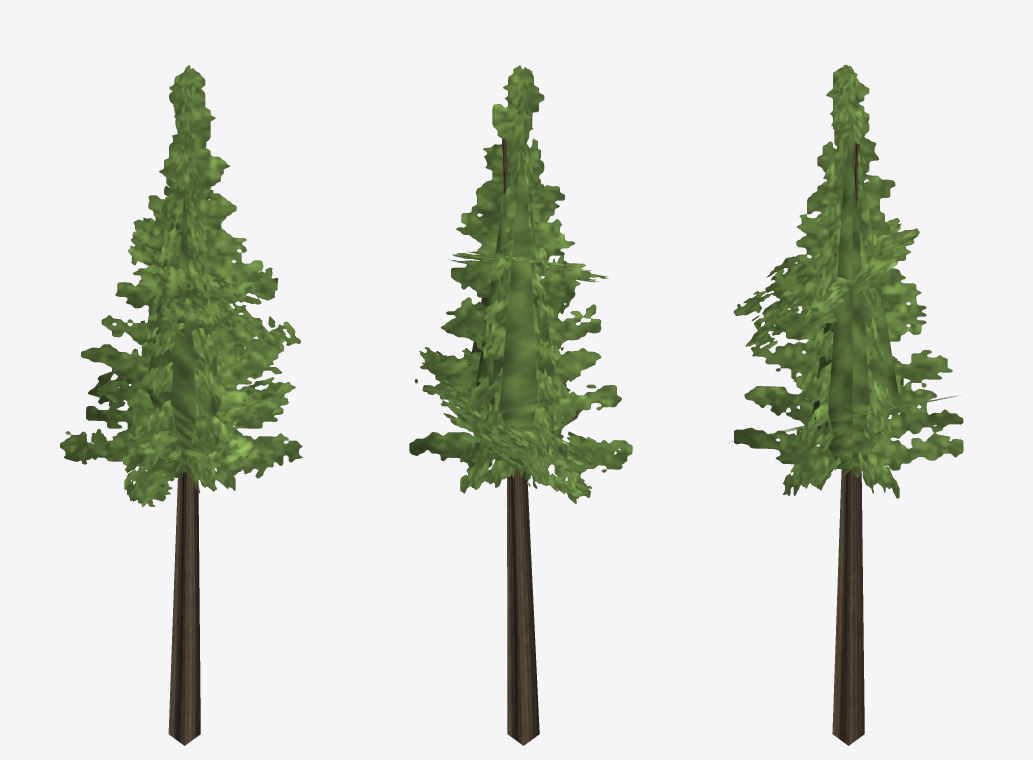
The model's file is tree-conifer-3.glb.
3 views of the same model, side by side, from view 1: azimuth 30°, elevation 25°; view 2: azimuth 150°, elevation 25°; view 3: azimuth 270°, elevation 25° (orthographic).
Visible parts, largest first — view 1: tree-conifer-3; view 2: tree-conifer-3; view 3: tree-conifer-3.
Boxes of the visible parts, box(x1,y1,x2,y2) form: tree-conifer-3: box(60, 65, 302, 745); tree-conifer-3: box(409, 65, 632, 745); tree-conifer-3: box(729, 64, 963, 745).
Size of the model in its own units: 0.4651 by 1.08 by 0.4907.
1 material, 1 textured.
